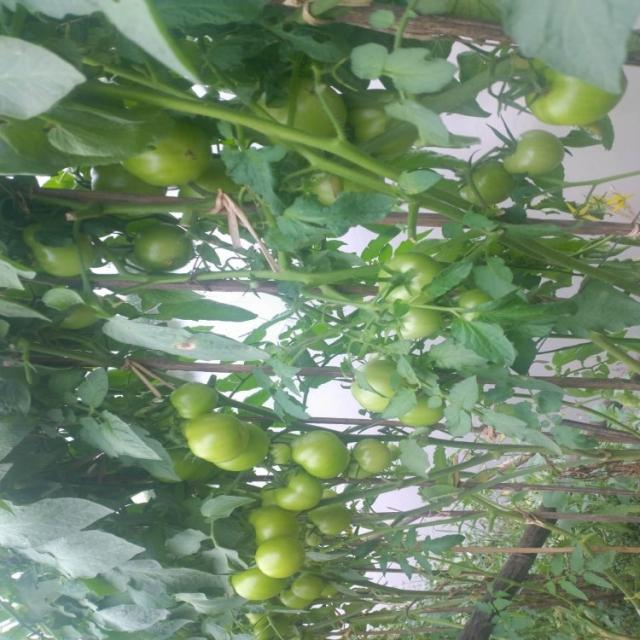tomato: (516, 49, 633, 137), (254, 79, 345, 158), (22, 225, 121, 287), (124, 114, 211, 181), (356, 249, 452, 307), (359, 89, 431, 165), (496, 116, 567, 185), (464, 143, 521, 218), (286, 426, 362, 480), (133, 218, 202, 277), (190, 403, 253, 467), (255, 461, 325, 510), (353, 355, 404, 420), (243, 495, 303, 550), (452, 273, 504, 329), (385, 301, 443, 345), (165, 376, 222, 418), (223, 425, 267, 478), (401, 381, 448, 429), (254, 541, 313, 579), (235, 565, 293, 601), (288, 555, 331, 603), (310, 490, 352, 538), (359, 437, 396, 484), (41, 282, 84, 312), (284, 587, 303, 609)
